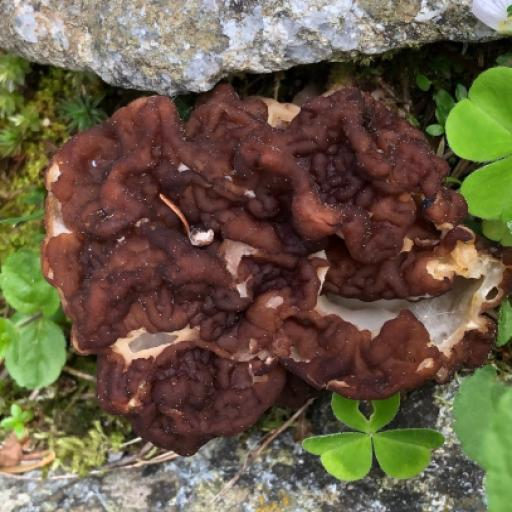mushroom: (40, 85, 495, 458)
